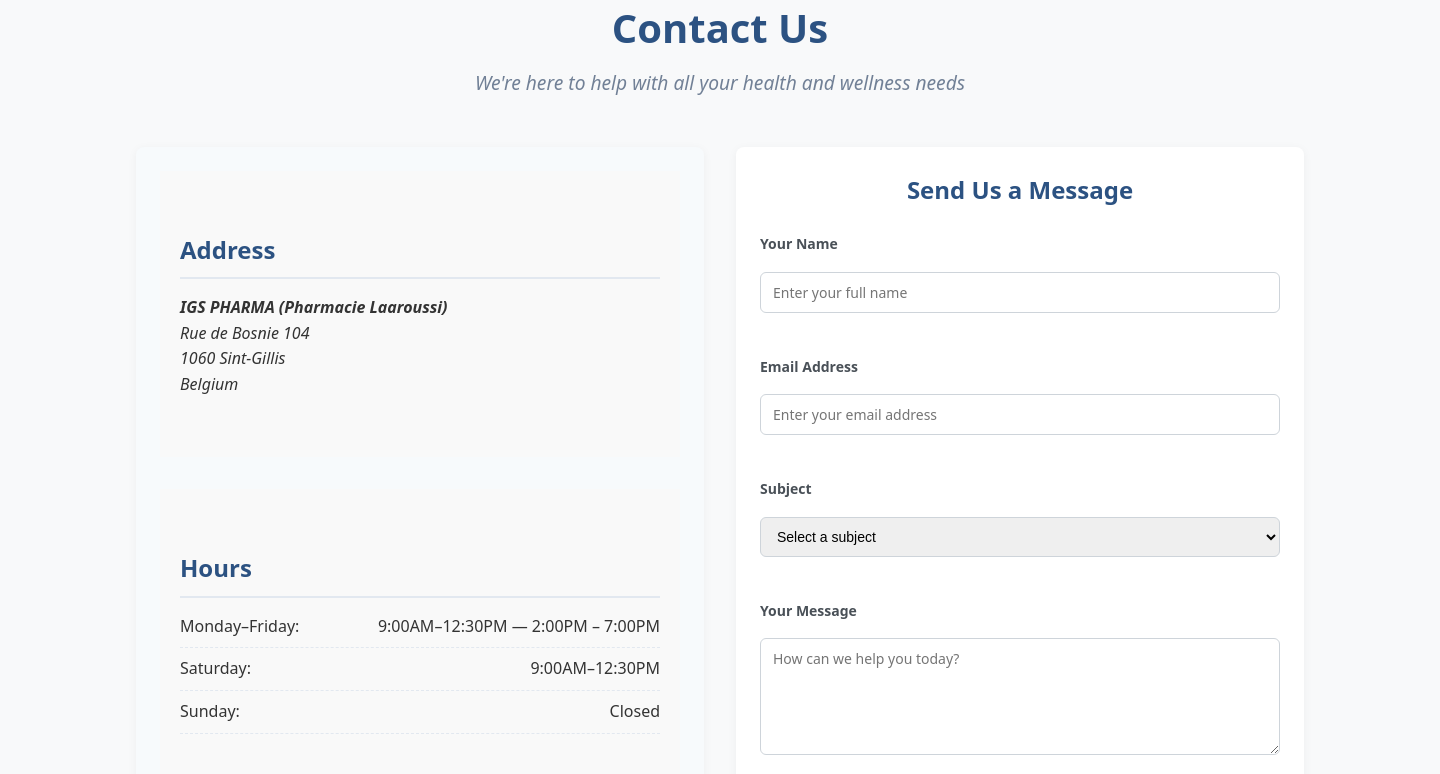
Test case: ContactUs Component › submits the form with valid data
The width and height of the screenshot is (1440, 774).
# Fill out the form
In the field labelled "Your Name": [1020, 292] box 760,272 -> 1280,312, type "Test User"
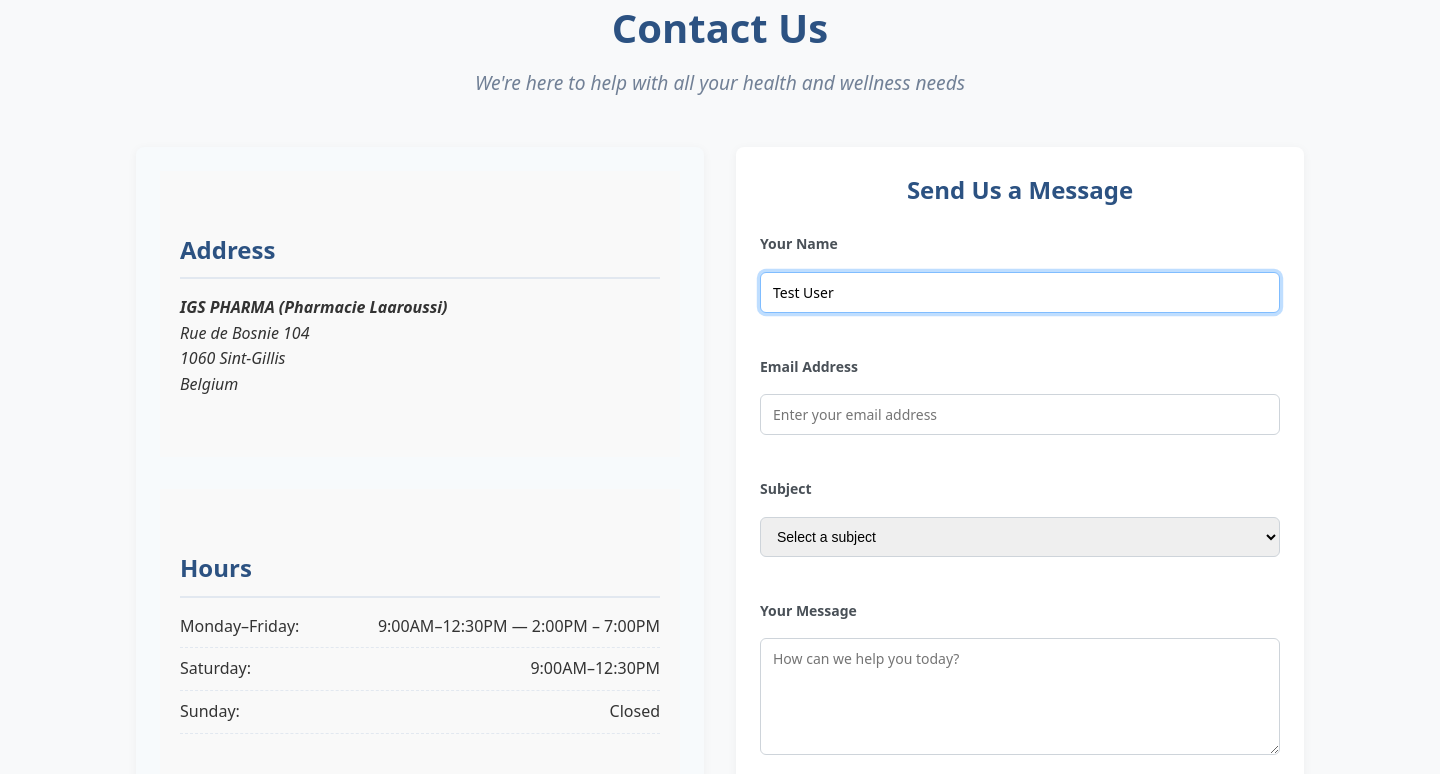
In the field labelled "Email Address": [1020, 415] box 760,394 -> 1280,435, type "test@example.com"
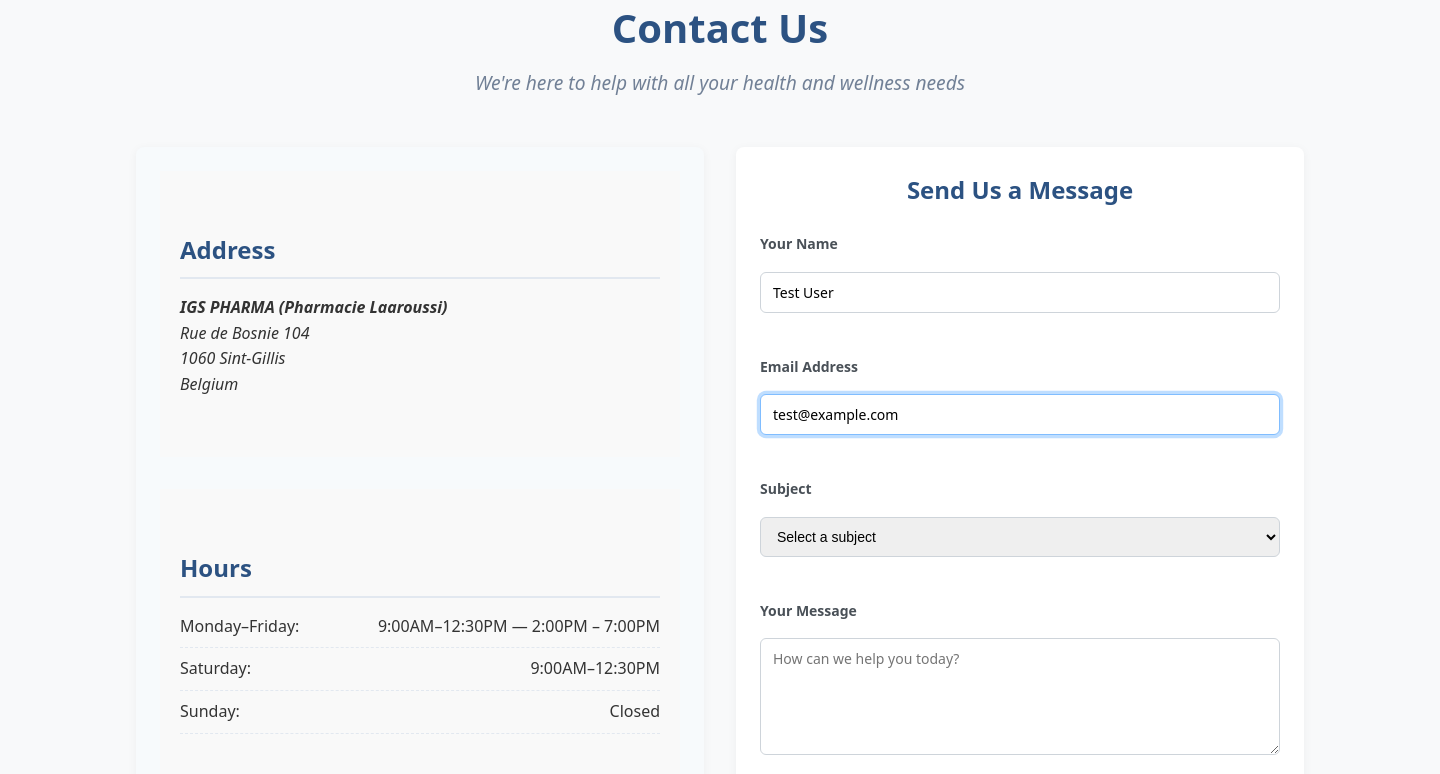
# Select an option from the dropdown
Select "General Inquiry" in the dropdown labelled "Subject": [1020, 537] box 760,517 -> 1280,557
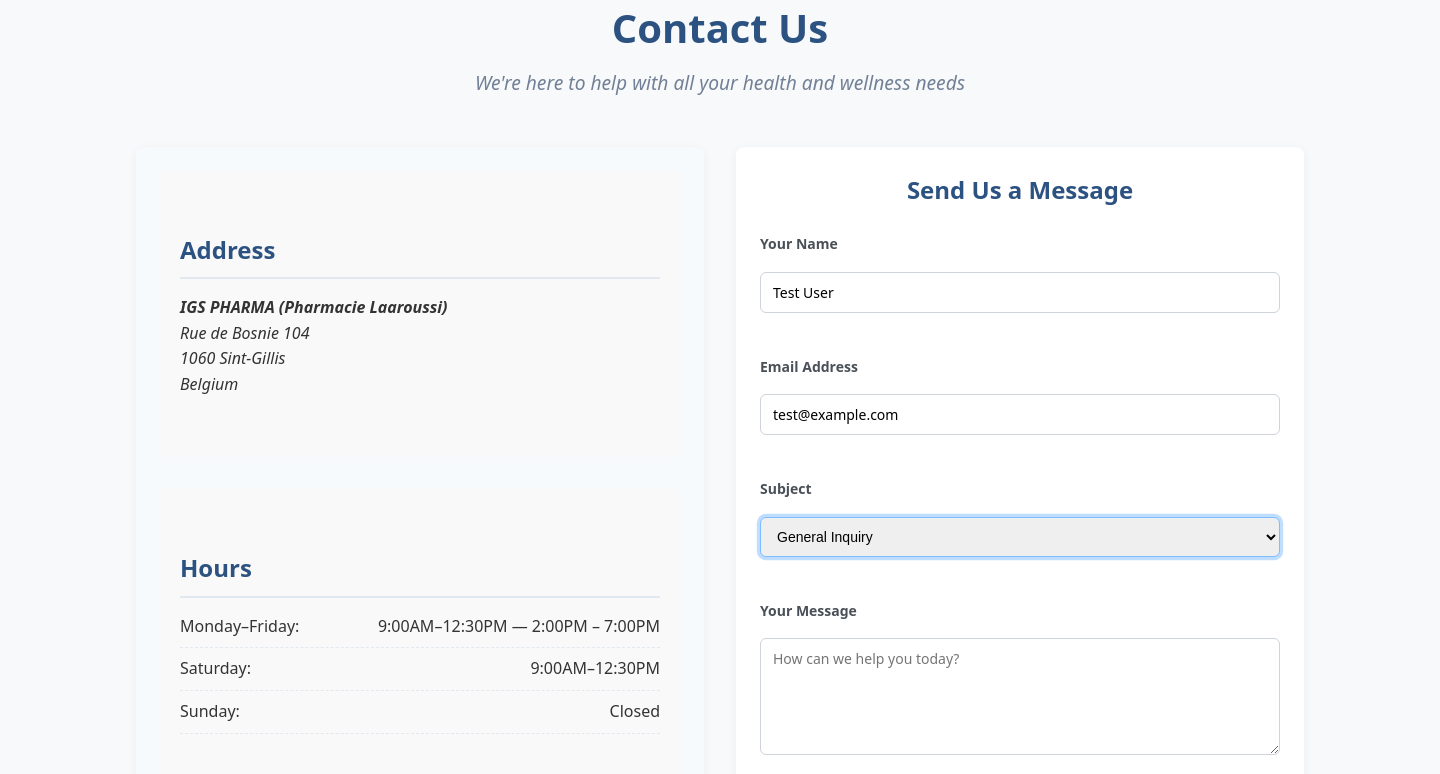
In the text box labelled "Your Message": [1020, 697] box 760,638 -> 1280,755, type "This is a test message"
(page scrolled)
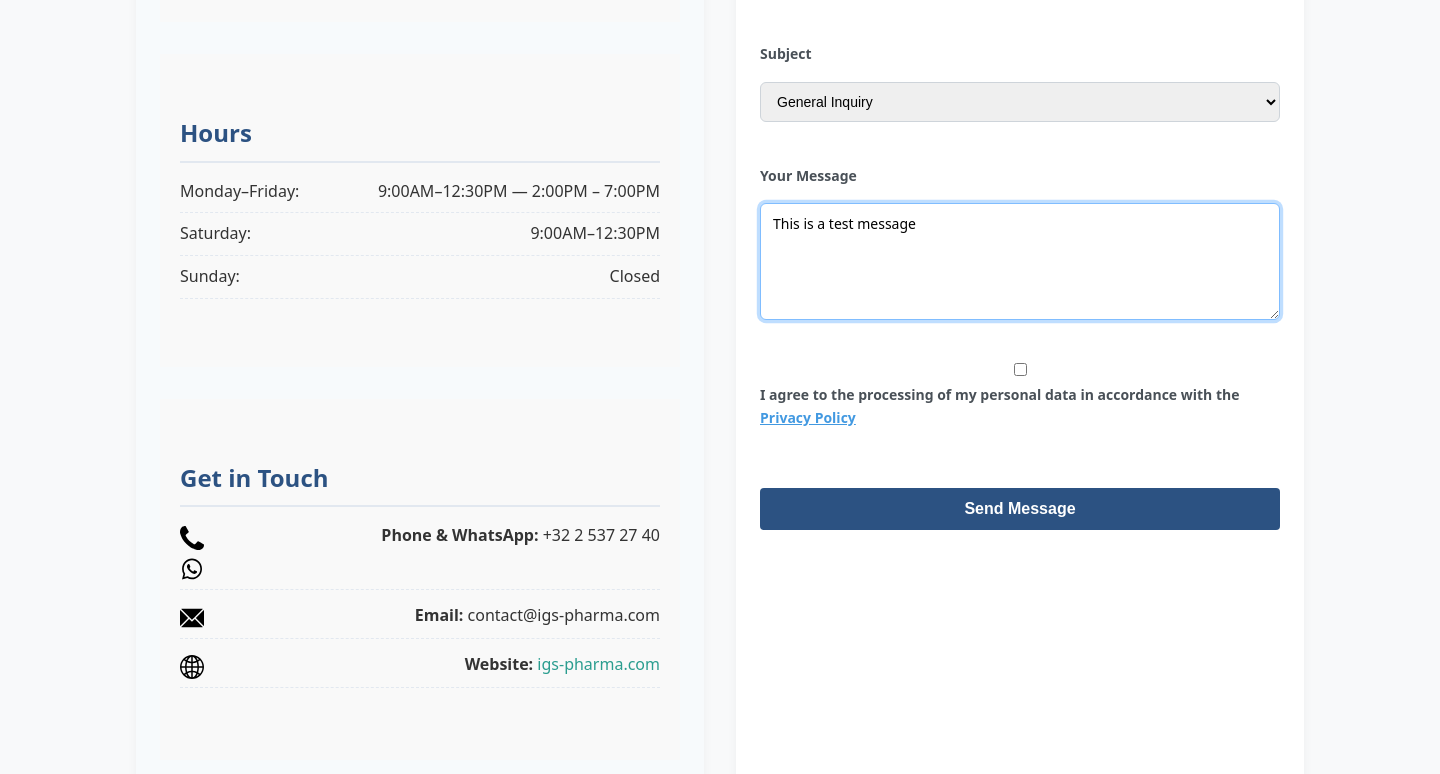
# Check the privacy policy checkbox
Click the checkbox labelled "I agree to the processing of my personal data": [1020, 370] box 1014,363 -> 1026,376
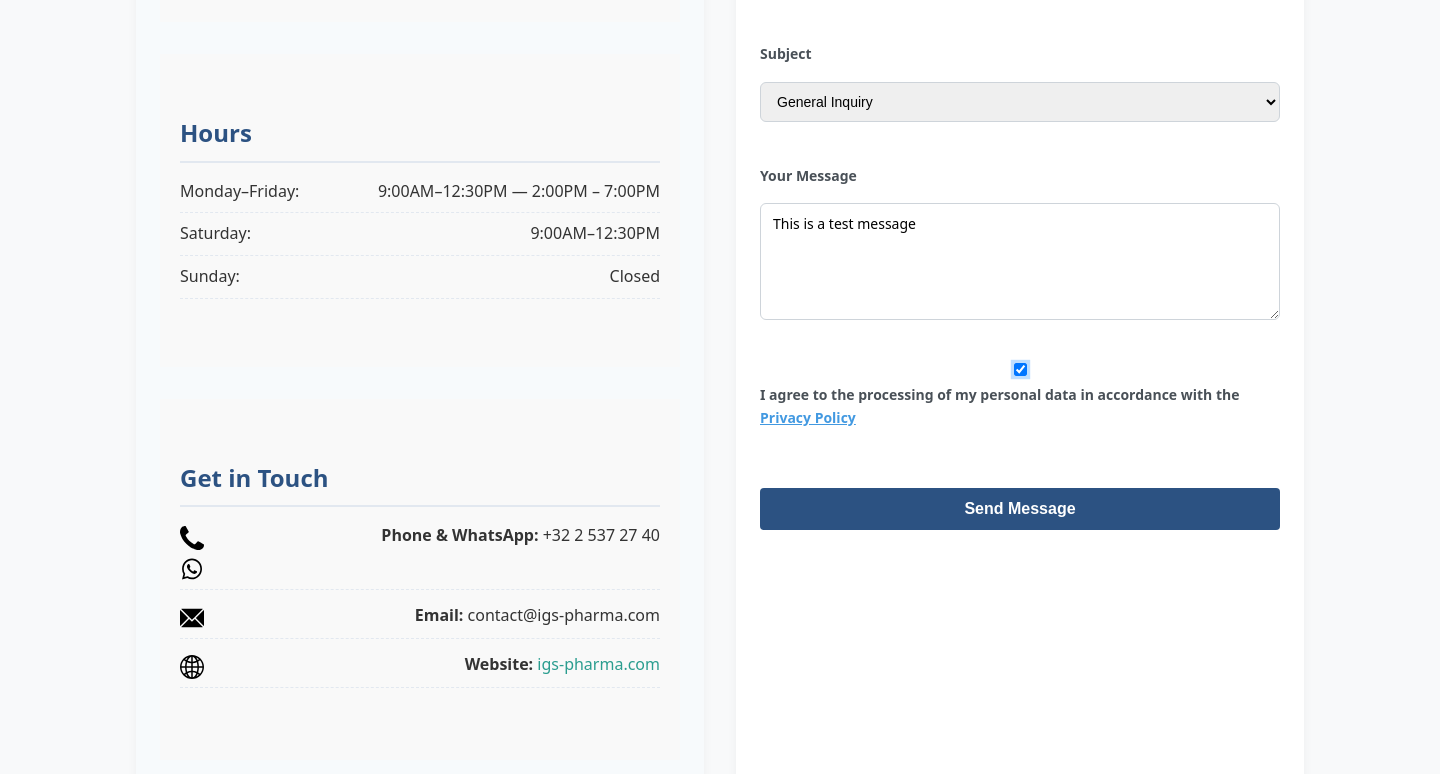
# Submit the form
Click the button "Send Message": [1020, 509] box 760,488 -> 1280,530
(page scrolled)
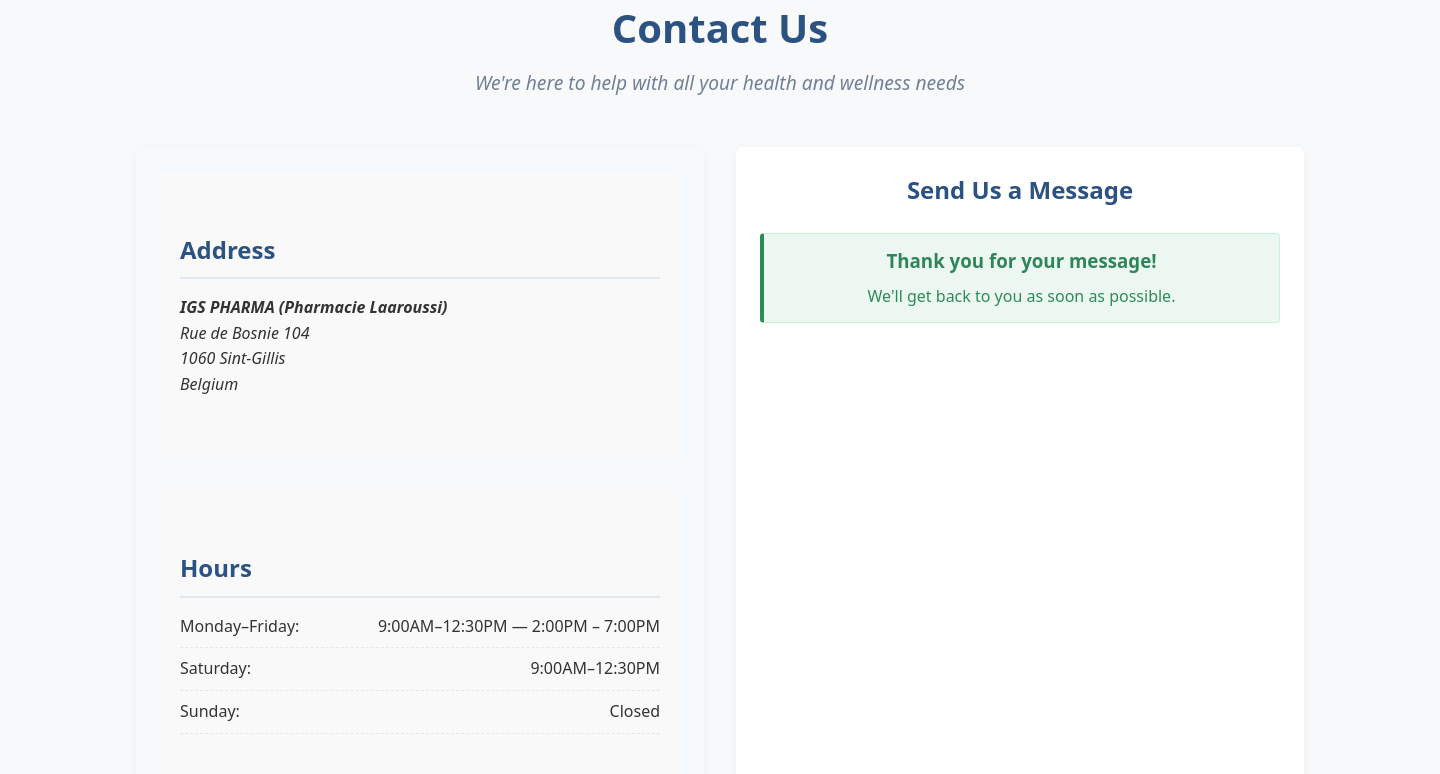
Expected: the heading "Thank you for your message!" is shown, 886,248 -> 1156,273
Expected: the text "We'll get back to you as soon as possible." is shown, 868,285 -> 1176,307
